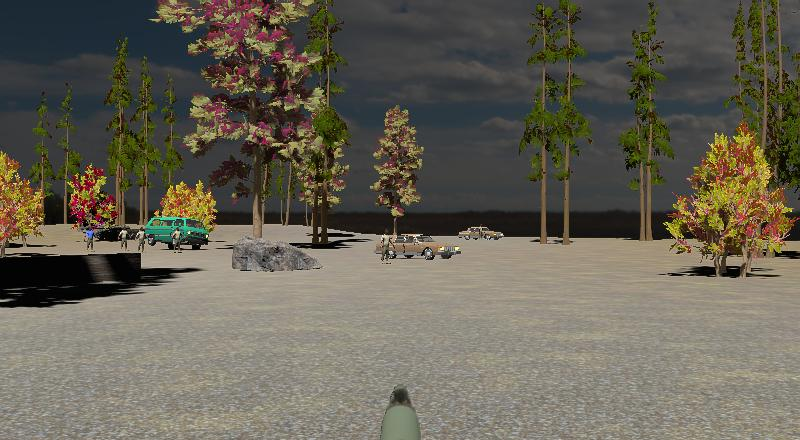Human: (376, 232, 396, 262), (83, 225, 96, 254), (84, 226, 97, 253), (171, 228, 184, 253)
car: (375, 232, 462, 261), (144, 216, 209, 248), (457, 224, 505, 242)
